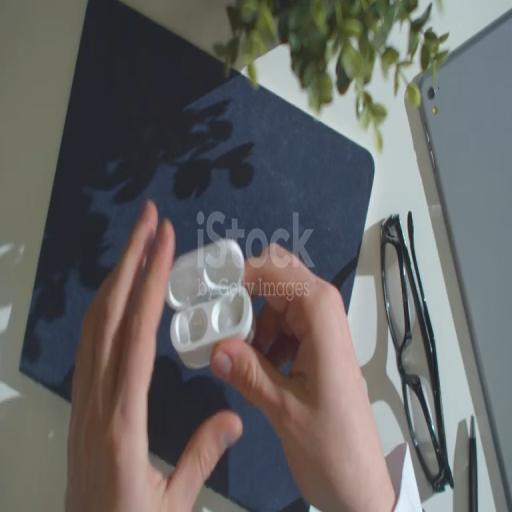earphone: (162, 240, 256, 393)
